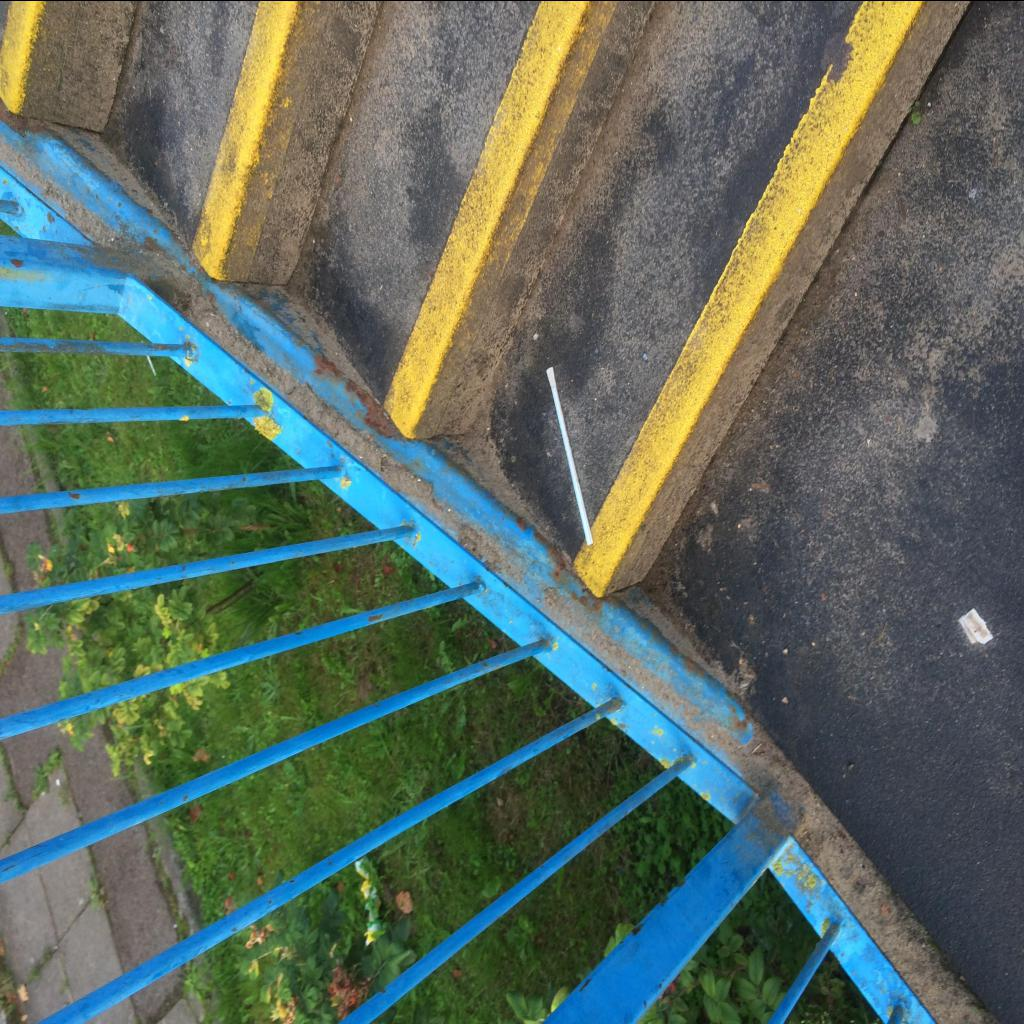Plastic straw: (546, 366, 594, 544)
Unlabeled litter: (958, 607, 993, 643)
